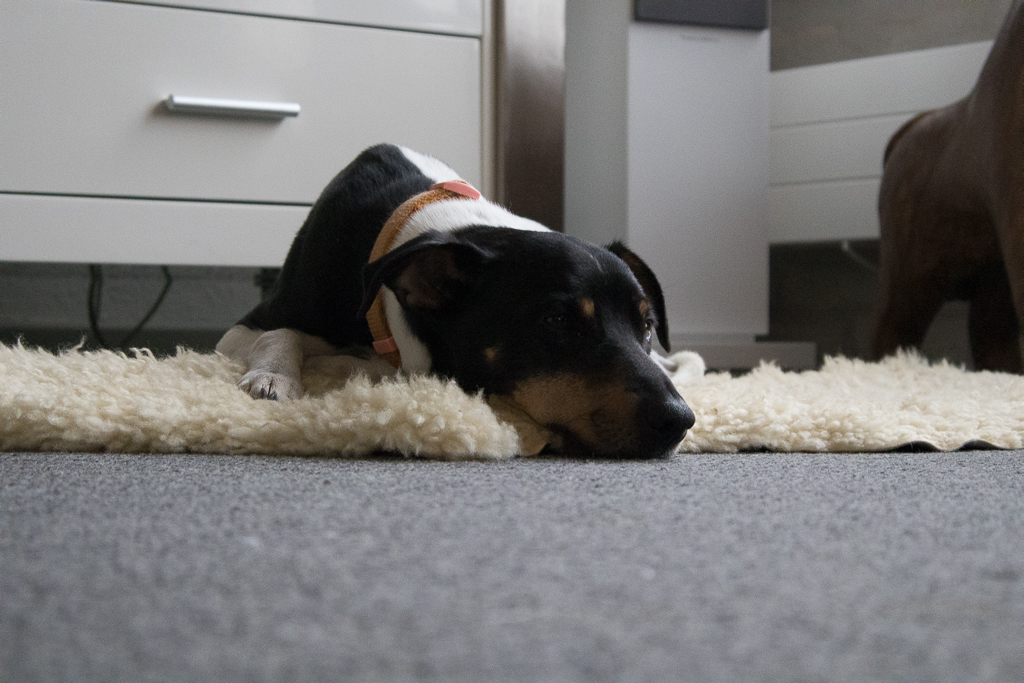Cattle: (863, 0, 1024, 381)
Dog: (189, 135, 711, 479)
